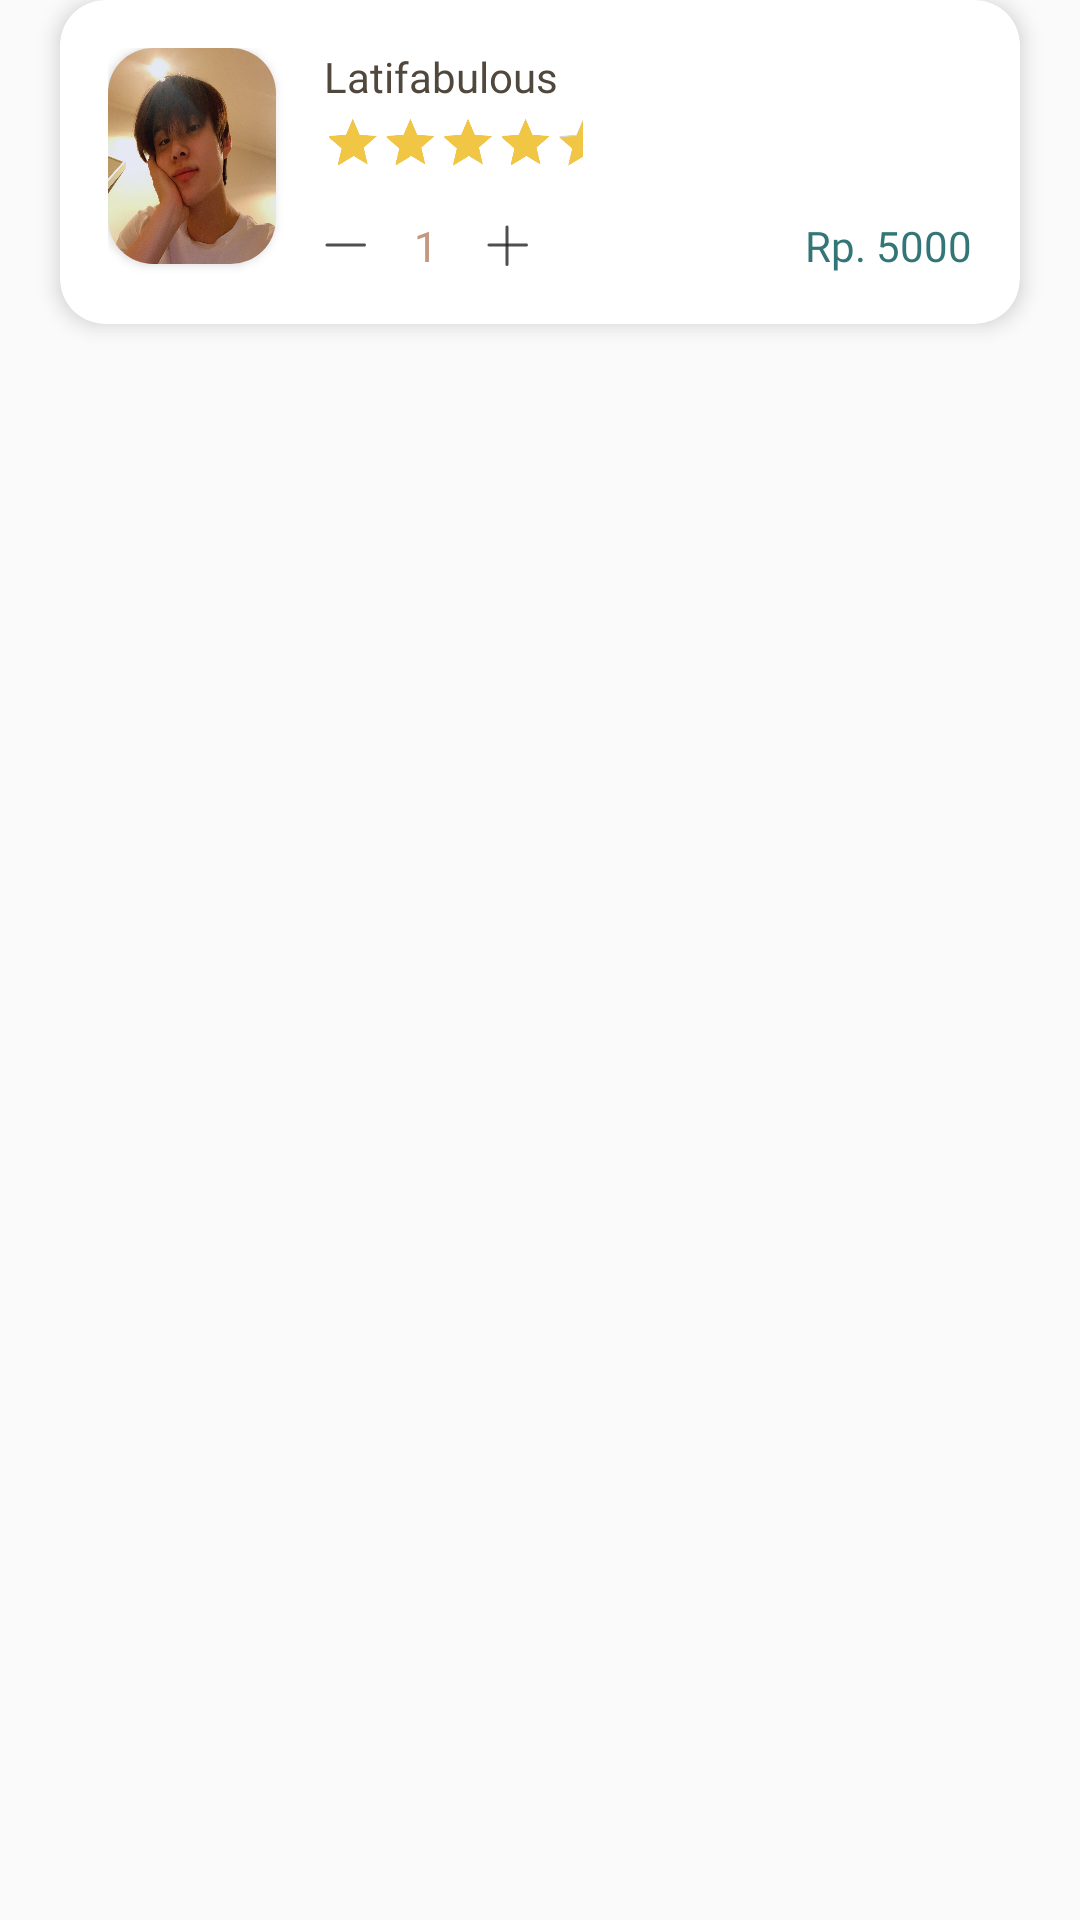

Icon bounding boxes for this 1080 × 1920 phone screenshot, format (x1, y1, x2, y2):
plus: (487, 225, 528, 266)
